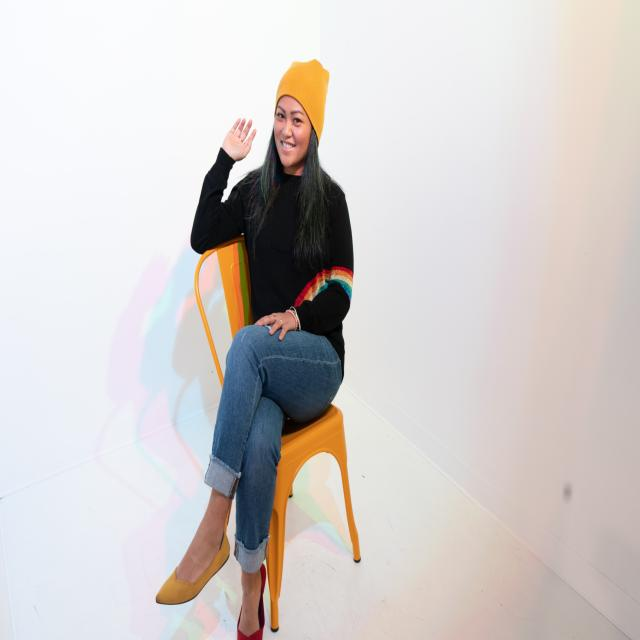nonfall: (174, 31, 348, 621)
